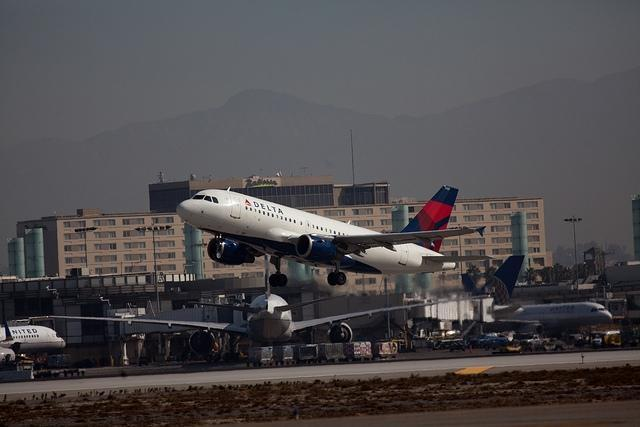truck: (424, 326, 468, 350), (470, 334, 508, 350), (372, 341, 398, 360), (521, 334, 550, 346)
